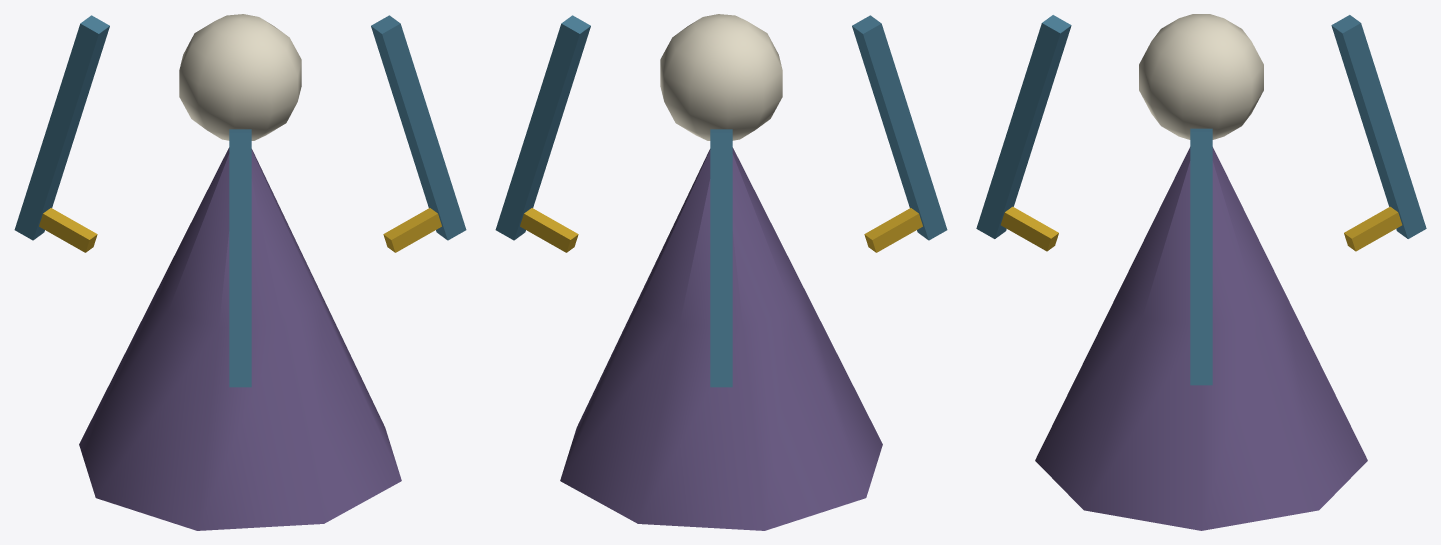
Rendered from jian_zhen_shi.glb.
3 views of the same model, side by side, from view 1: azimuth 30°, elevation 25°; view 2: azimuth 150°, elevation 25°; view 3: azimuth 270°, elevation 25° (orthographic).
Visible parts, largest first — view 1: _MeshInstance3D_34, _MeshInstance3D_35, _MeshInstance3D_36, _MeshInstance3D_40, _MeshInstance3D_38, _MeshInstance3D_37, _MeshInstance3D_41; view 2: _MeshInstance3D_34, _MeshInstance3D_35, _MeshInstance3D_36, _MeshInstance3D_38, _MeshInstance3D_40, _MeshInstance3D_37, _MeshInstance3D_39; view 3: _MeshInstance3D_34, _MeshInstance3D_35, _MeshInstance3D_38, _MeshInstance3D_40, _MeshInstance3D_36, _MeshInstance3D_39, _MeshInstance3D_41.
Part boxes in pixels (left/top/right/bottom): _MeshInstance3D_34: left=79, top=147, right=401, bottom=530; _MeshInstance3D_35: left=179, top=14, right=301, bottom=140; _MeshInstance3D_36: left=371, top=15, right=466, bottom=240; _MeshInstance3D_40: left=14, top=15, right=109, bottom=240; _MeshInstance3D_38: left=229, top=129, right=251, bottom=387; _MeshInstance3D_37: left=383, top=208, right=441, bottom=252; _MeshInstance3D_41: left=39, top=208, right=97, bottom=252; _MeshInstance3D_34: left=560, top=147, right=882, bottom=530; _MeshInstance3D_35: left=660, top=14, right=782, bottom=140; _MeshInstance3D_36: left=495, top=15, right=590, bottom=240; _MeshInstance3D_38: left=852, top=15, right=947, bottom=240; _MeshInstance3D_40: left=710, top=129, right=732, bottom=387; _MeshInstance3D_37: left=520, top=208, right=578, bottom=252; _MeshInstance3D_39: left=864, top=208, right=922, bottom=252; _MeshInstance3D_34: left=1035, top=147, right=1367, bottom=530; _MeshInstance3D_35: left=1139, top=14, right=1263, bottom=139; _MeshInstance3D_38: left=976, top=15, right=1071, bottom=238; _MeshInstance3D_40: left=1331, top=15, right=1426, bottom=238; _MeshInstance3D_36: left=1190, top=128, right=1212, bottom=385; _MeshInstance3D_39: left=1000, top=206, right=1058, bottom=251; _MeshInstance3D_41: left=1344, top=206, right=1402, bottom=251.
Size of the model in its own units: 0.6558 by 0.76 by 0.7031.
